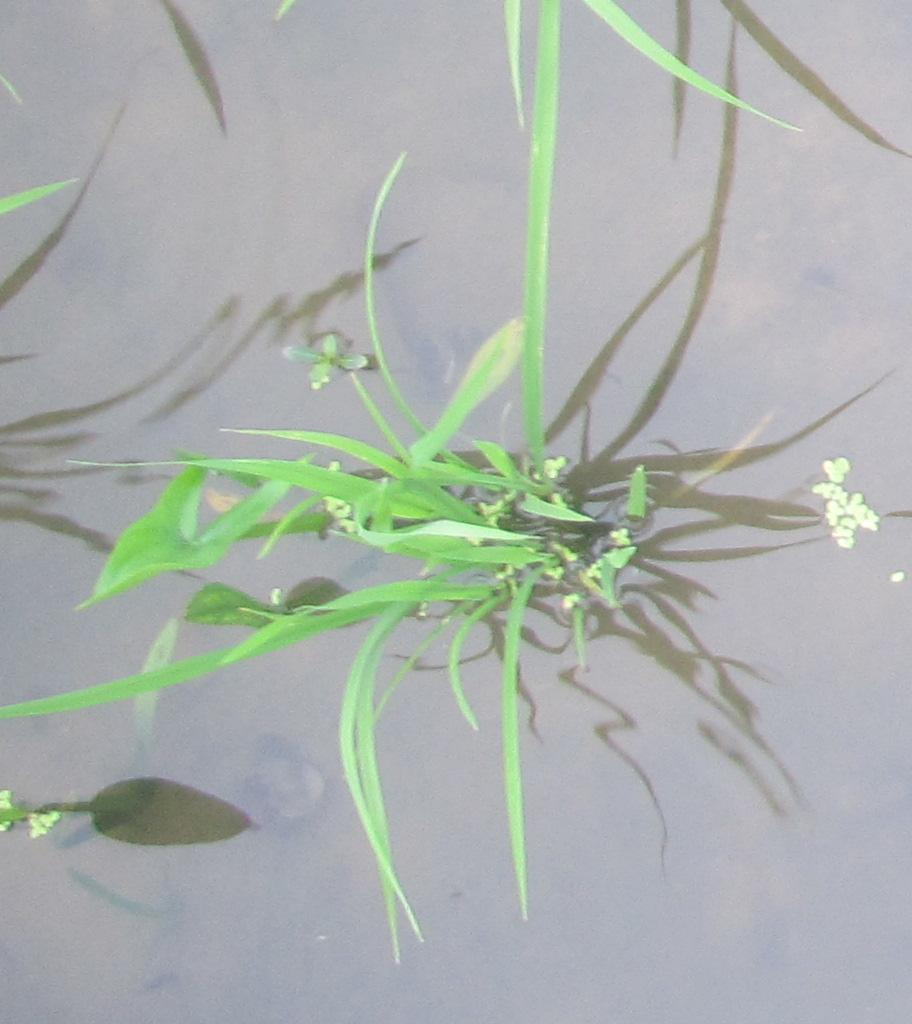Weed: (77, 453, 238, 610)
